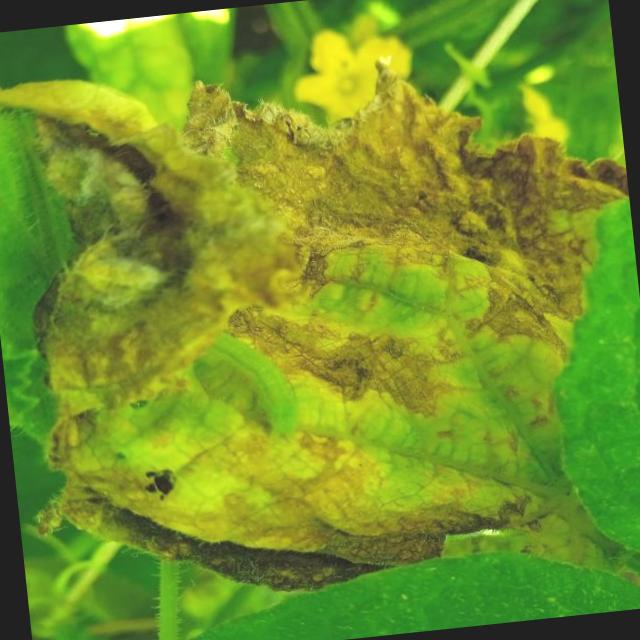cucumber_gummy: (0, 37, 640, 638)
